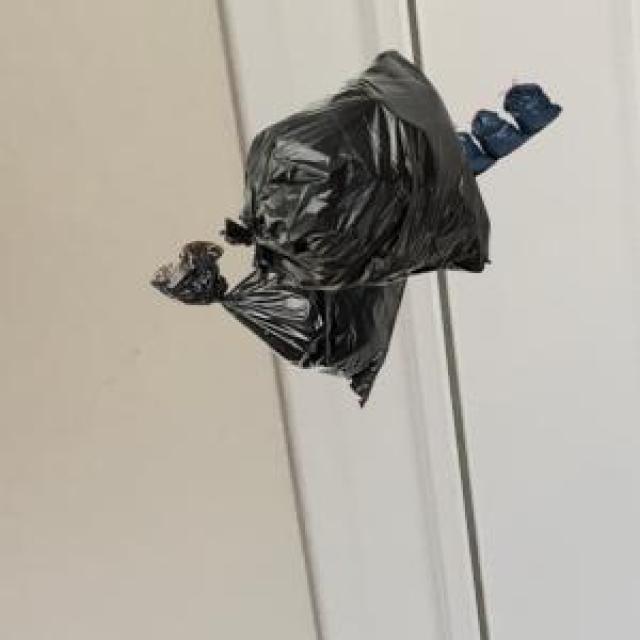Trashbag: (246, 47, 473, 277), (226, 262, 406, 406), (512, 80, 556, 131), (470, 112, 520, 154)
